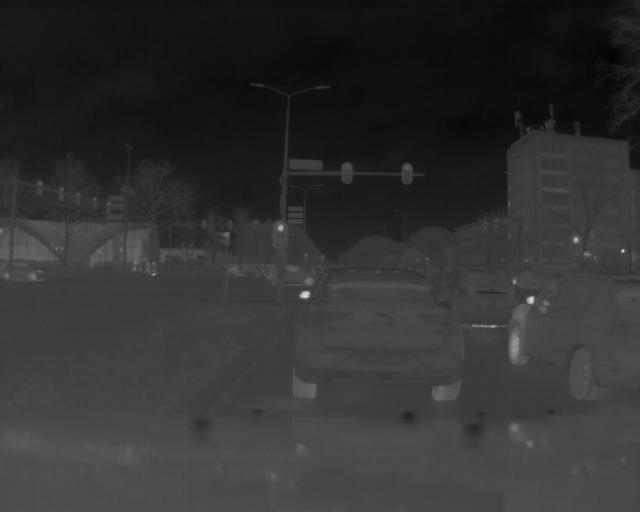car: (285, 267, 465, 397), (507, 268, 636, 399), (460, 264, 507, 322), (6, 257, 52, 283)
person: (151, 258, 161, 279)
